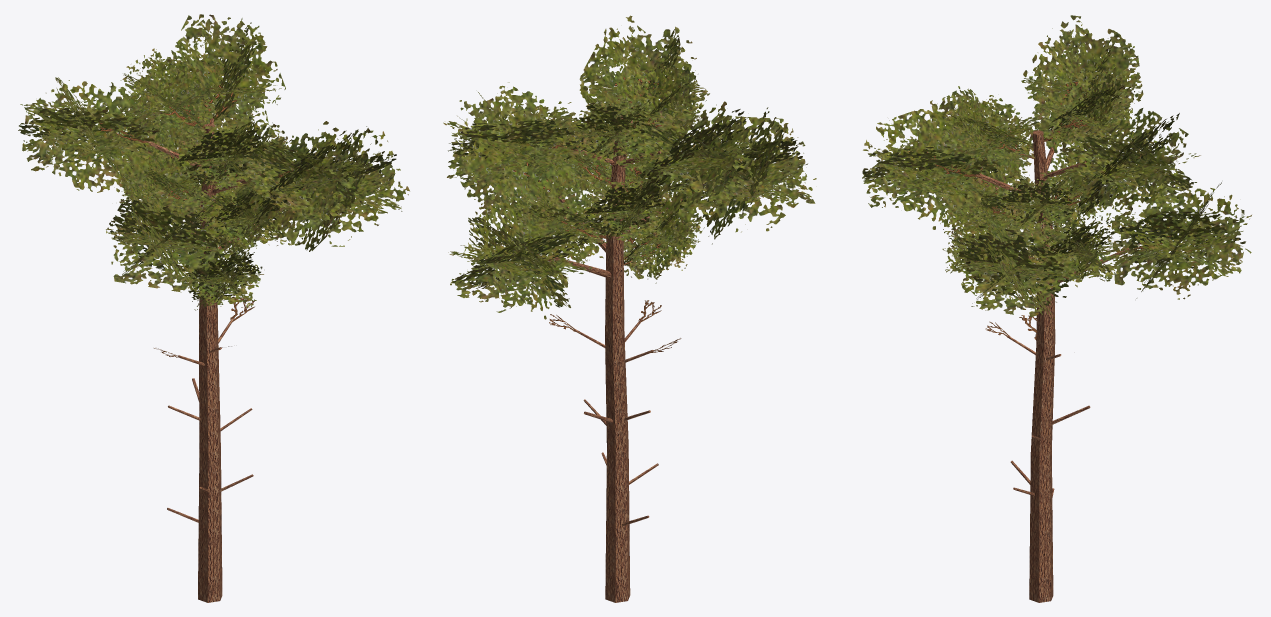
The model's file is Tree 3.fbx.
The picture shows the model from 3 angles, left to right: view 1: azimuth 30°, elevation 25°; view 2: azimuth 150°, elevation 25°; view 3: azimuth 270°, elevation 25°; orthographic projection. The views are drawn at different scales.
Parts seen in each view (by area): view 1: Cylinder; view 2: Cylinder; view 3: Cylinder.
Boxes of the visible parts, left/top/right/bottom form: Cylinder: left=18, top=14, right=409, bottom=602; Cylinder: left=443, top=15, right=816, bottom=602; Cylinder: left=862, top=15, right=1251, bottom=602.
Bounding box in the file's own units: 5.74 × 8.46 × 6.03.
